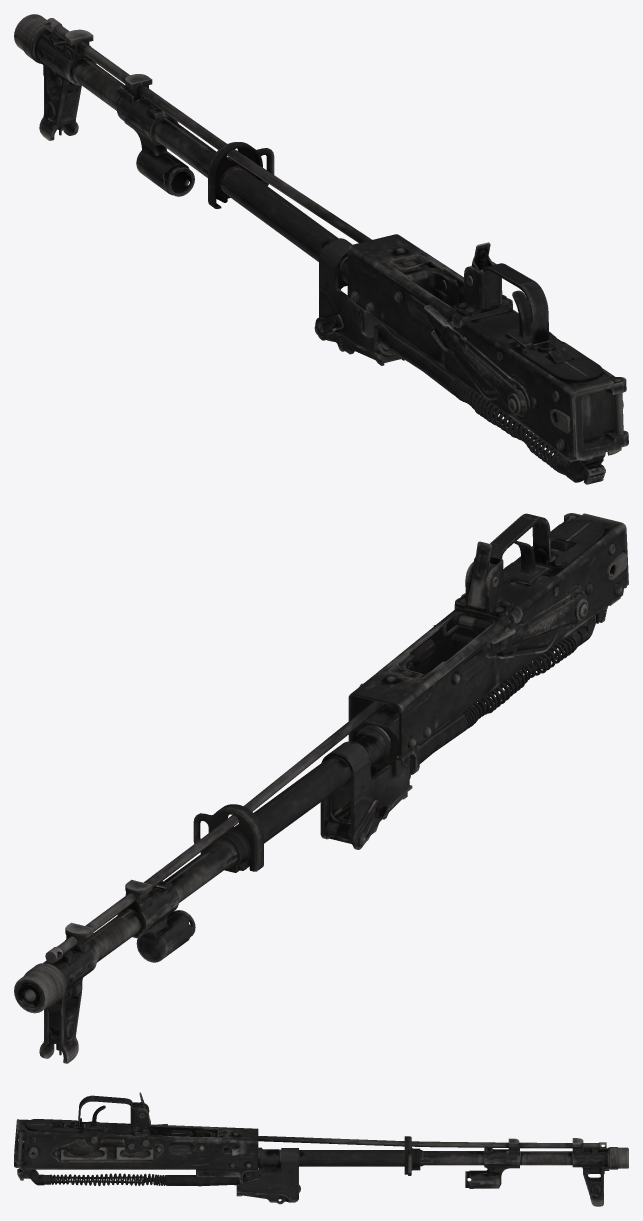
The picture shows the model from 3 angles, top to bottom: view 1: azimuth 30°, elevation 25°; view 2: azimuth 150°, elevation 25°; view 3: azimuth 270°, elevation 25°; orthographic projection. The views are drawn at different scales.
Visible parts, largest first — view 1: TW_5ab8e9fcd8ce870019439434_PZ_Import; view 2: TW_5ab8e9fcd8ce870019439434_PZ_Import; view 3: TW_5ab8e9fcd8ce870019439434_PZ_Import.
Boxes of the visible parts, x1,y1,x2,y2 form: TW_5ab8e9fcd8ce870019439434_PZ_Import: (14, 14, 628, 484); TW_5ab8e9fcd8ce870019439434_PZ_Import: (14, 513, 628, 1063); TW_5ab8e9fcd8ce870019439434_PZ_Import: (14, 1092, 628, 1206).
Bounding box in the file's own units: 0.0285 × 0.373 × 0.0735.
Materials: 1 (1 with a texture image).
